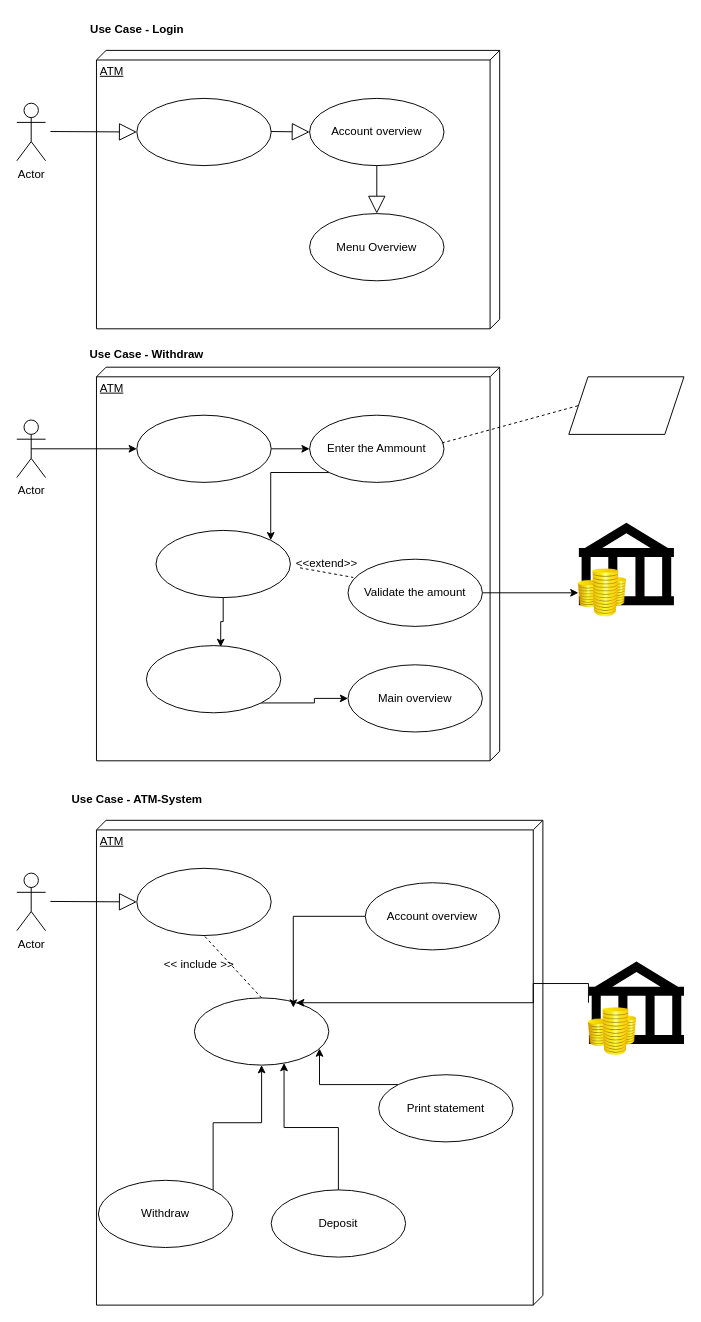
The diagram is 701 pixels wide and 1322 high, and some of its shapes have lost their labels. Each missing label, with the box of its shape:
Confirm the amount: (155, 529, 290, 598)
Enter Account credentials: (136, 97, 271, 166)
Login: (136, 867, 271, 936)
Max 10.000 €: (568, 376, 684, 434)
Select withdraw function: (136, 414, 271, 482)
Transaction: (193, 997, 329, 1065)
Withdraw the money: (145, 645, 281, 713)
